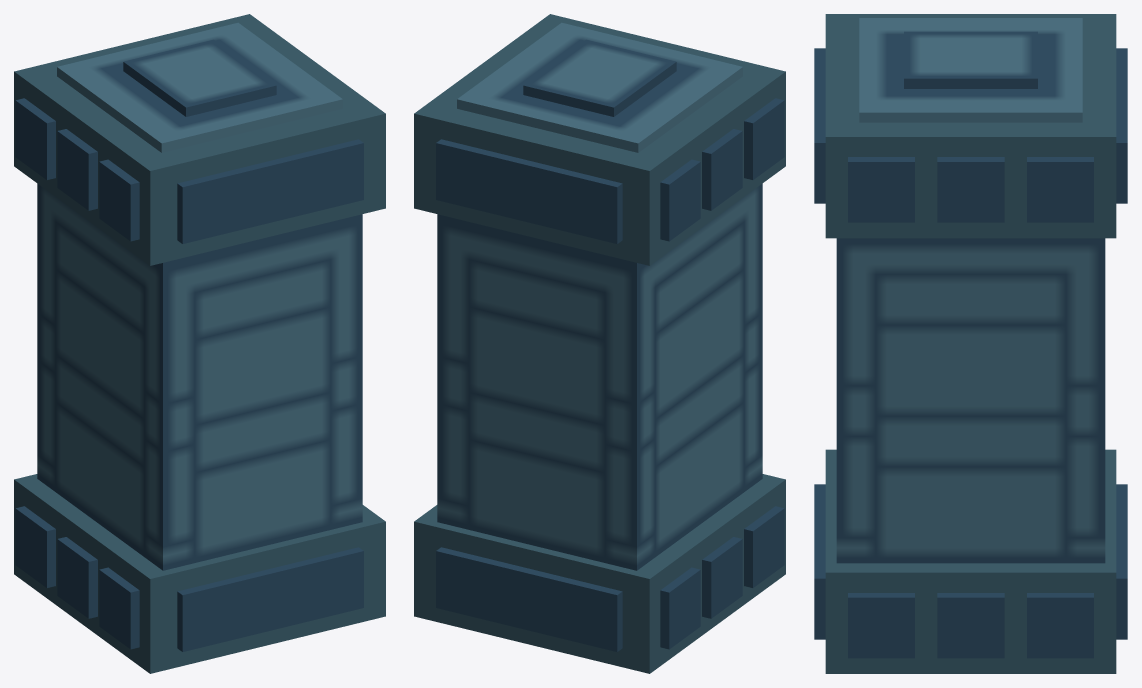
File: pillar_mid.fbx
3 renders of one model, left to right at view 1: azimuth 30°, elevation 25°; view 2: azimuth 150°, elevation 25°; view 3: azimuth 270°, elevation 25°, orthographic. The views are drawn at different scales.
Parts seen in each view (by area): view 1: pillar_mid; view 2: pillar_mid; view 3: pillar_mid.
Part boxes in pixels (bbox=[...]): pillar_mid: bbox=[14, 14, 385, 673]; pillar_mid: bbox=[414, 14, 785, 673]; pillar_mid: bbox=[814, 14, 1127, 673].
Bounding box in the file's own units: 28 × 56 × 28.
Materials: 1 (1 with a texture image).
